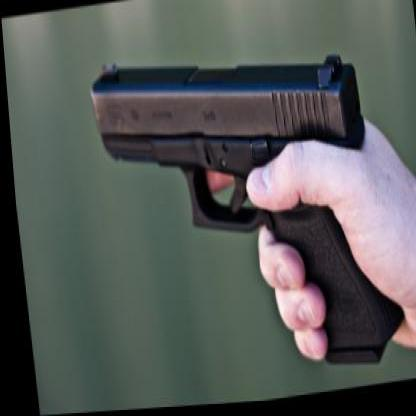pistol: (75, 25, 410, 397)
